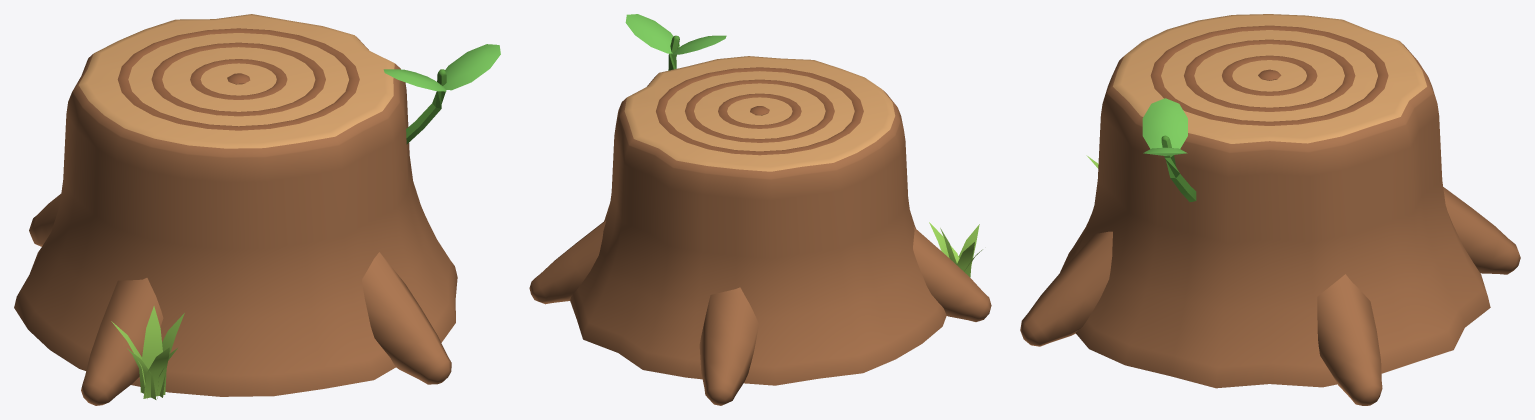
Rendered from prop_stump.glb.
The picture shows the model from 3 angles, left to right: view 1: azimuth 30°, elevation 25°; view 2: azimuth 150°, elevation 25°; view 3: azimuth 270°, elevation 25°; orthographic projection. The views are drawn at different scales.
Parts seen in each view (by area): view 1: prop_stump; view 2: prop_stump; view 3: prop_stump.
Part boxes in pixels (x1,y1,x2,y2): prop_stump: (14,14,500,405); prop_stump: (529,14,991,405); prop_stump: (1020,14,1520,405).
Size of the model in its own units: 1.03 by 0.5931 by 1.06.
